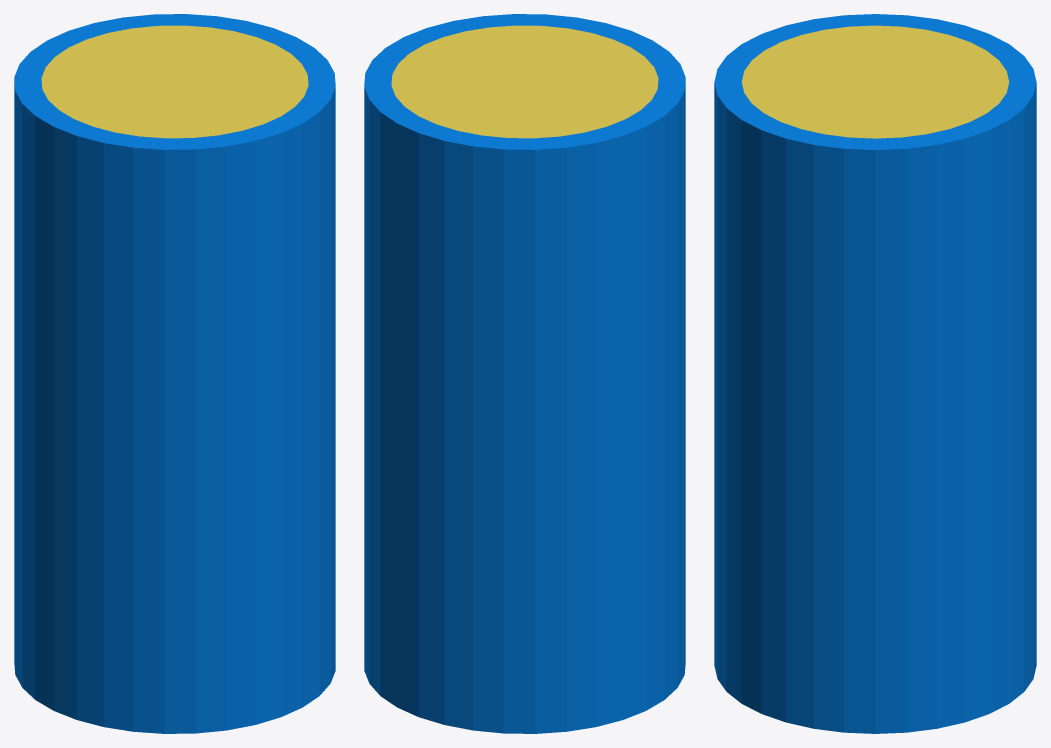
The model's file is Cable I.fbx.
3 renders of one model, left to right at view 1: azimuth 30°, elevation 25°; view 2: azimuth 150°, elevation 25°; view 3: azimuth 270°, elevation 25°, orthographic.
Visible parts, largest first — view 1: CABLE I; view 2: CABLE I; view 3: CABLE I.
Part boxes in pixels (x1,y1,x2,y2): CABLE I: (14, 14, 335, 733); CABLE I: (364, 14, 685, 733); CABLE I: (714, 14, 1036, 733).
Bounding box in the file's own units: 100 × 200 × 100.
